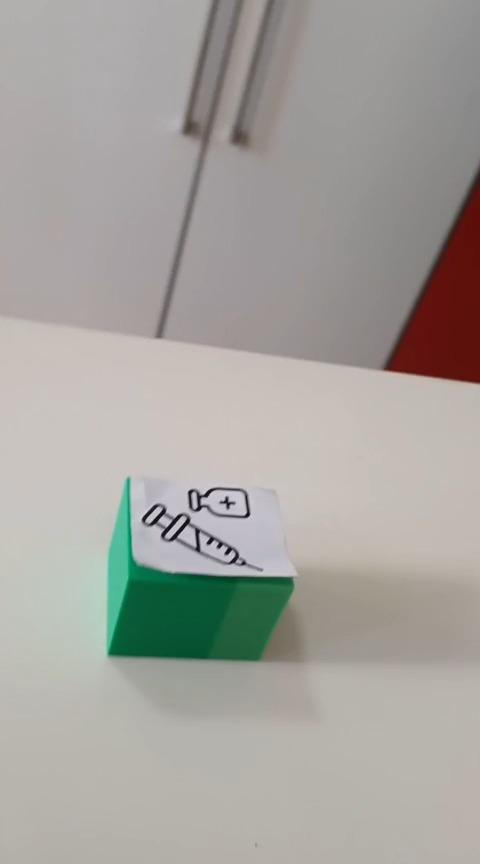antiseptic cream: (104, 473, 298, 661)
